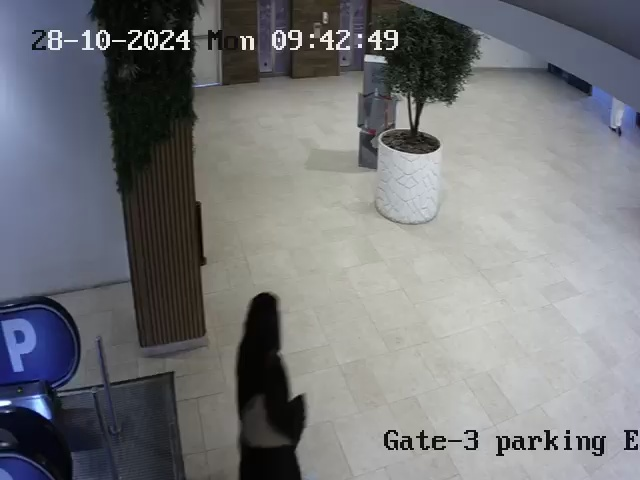female: (209, 281, 333, 480)
